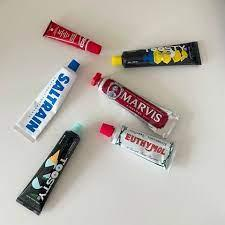toothpaste: (13, 118, 92, 216), (90, 65, 186, 140), (10, 55, 82, 138), (96, 117, 188, 172), (104, 42, 216, 70), (39, 17, 104, 58)
